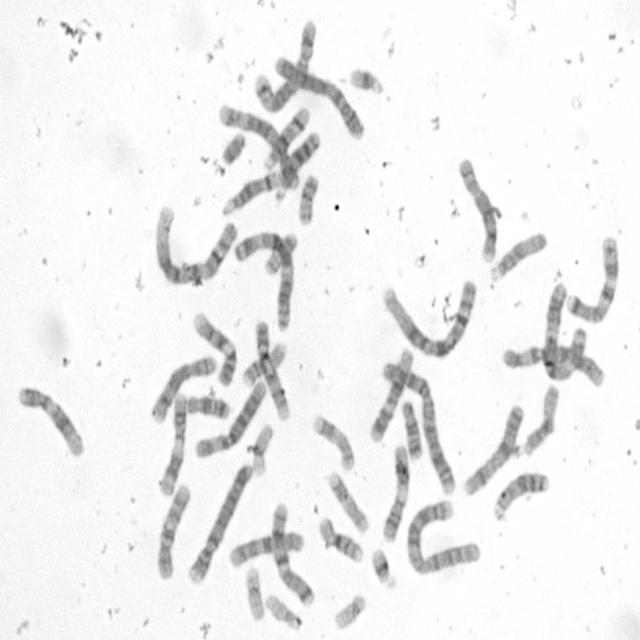A1: (376, 273, 478, 361), (152, 199, 240, 288)
A2: (378, 354, 458, 496), (402, 496, 483, 576)
A3: (540, 277, 606, 389), (230, 225, 296, 332)
B4: (270, 48, 367, 142), (186, 459, 254, 587)
B5: (215, 98, 304, 196), (251, 14, 319, 114)
C10: (154, 479, 192, 582), (225, 527, 306, 570)
C11: (154, 388, 189, 498), (378, 439, 412, 543)
C12: (14, 380, 86, 459), (365, 343, 415, 445)
C6: (191, 375, 268, 459), (498, 340, 607, 389)
C7: (563, 230, 622, 326), (267, 498, 316, 610)
C8: (147, 350, 218, 426), (455, 153, 500, 263)
C9: (251, 314, 291, 420), (190, 306, 239, 388)
D13: (270, 130, 322, 208), (488, 466, 552, 525)
D14: (260, 102, 311, 171), (218, 168, 287, 216)
D15: (515, 379, 561, 460), (486, 226, 549, 285)
E16: (314, 512, 364, 566), (240, 338, 288, 388)
E17: (324, 466, 371, 536), (310, 411, 356, 472)
E18: (399, 398, 425, 462), (182, 390, 230, 421)
F19: (248, 420, 275, 477), (242, 562, 266, 623)
F20: (262, 229, 299, 276), (296, 170, 320, 226)
G21: (346, 61, 387, 98), (368, 542, 398, 590)
G22: (262, 590, 304, 631), (331, 589, 367, 632)
X: (459, 398, 526, 498)
Y: (218, 127, 246, 166)
